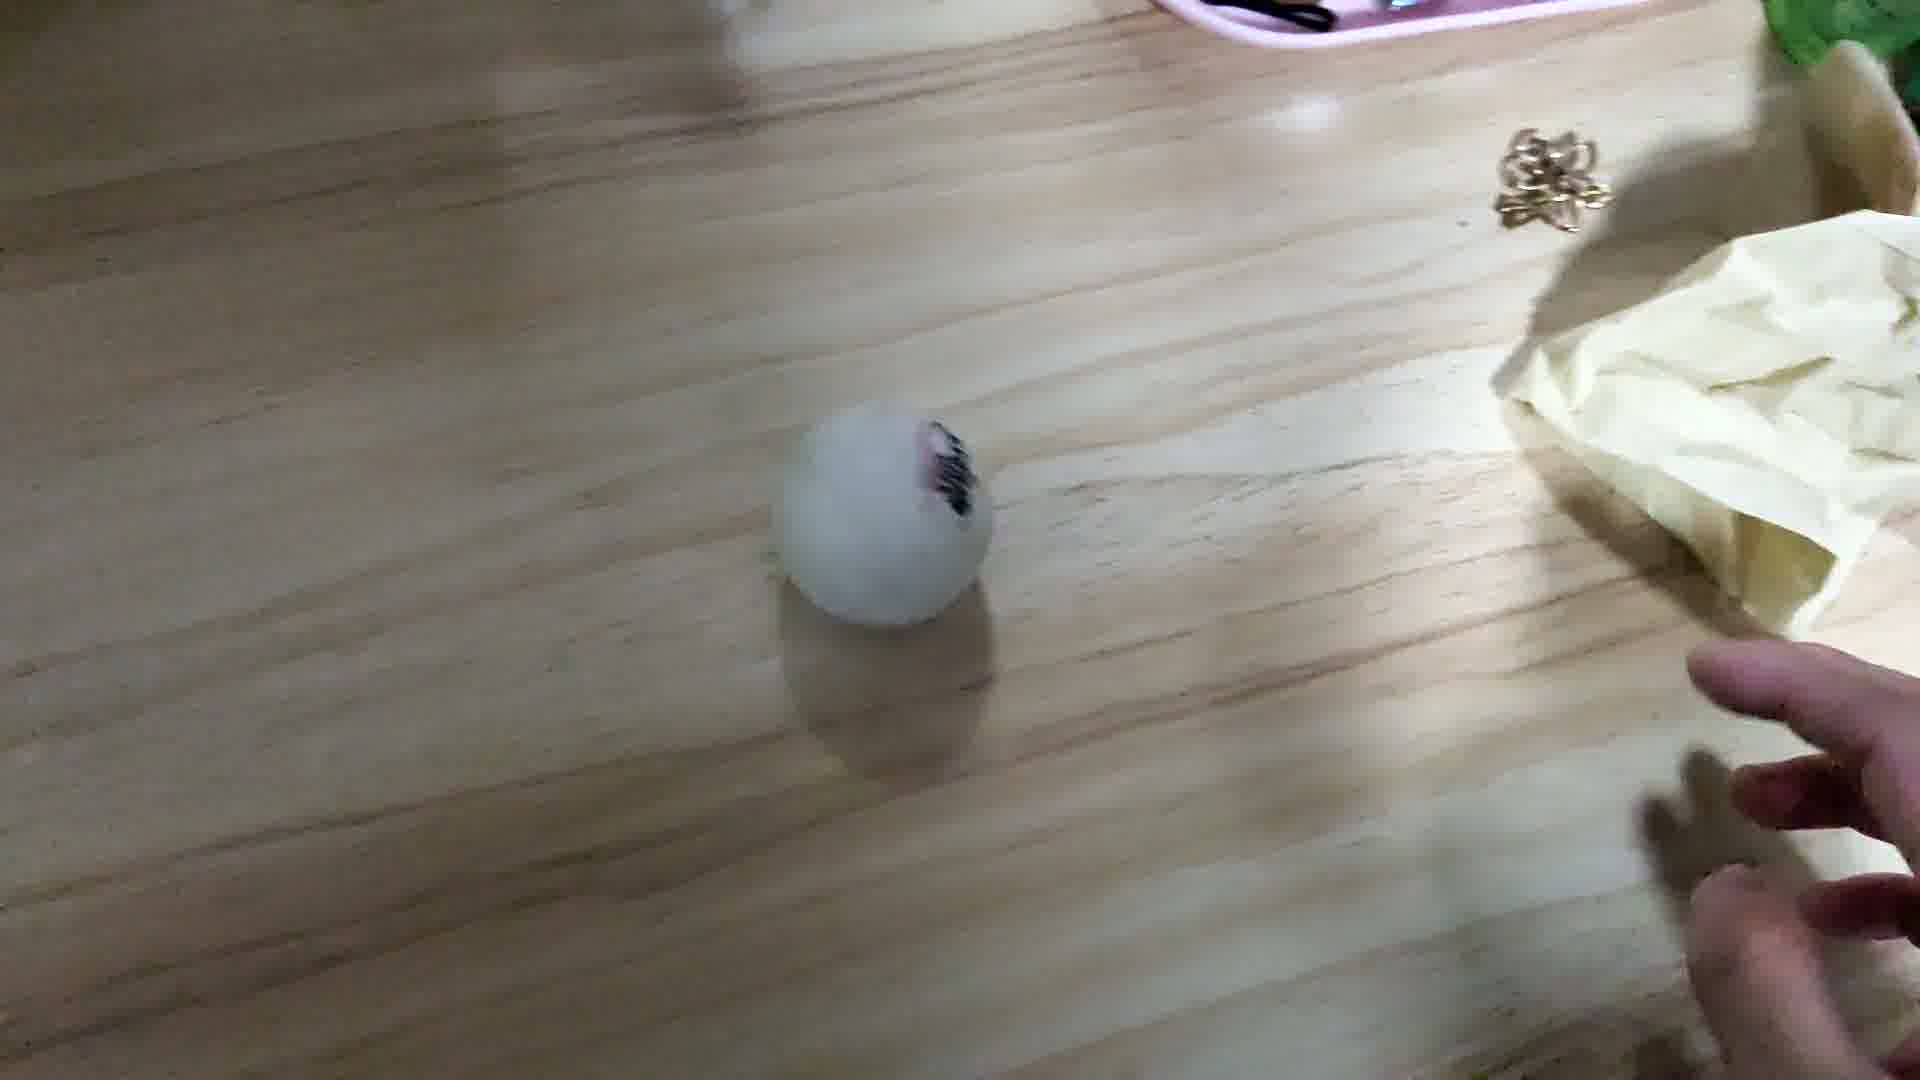Ball: (775, 396, 988, 624)
